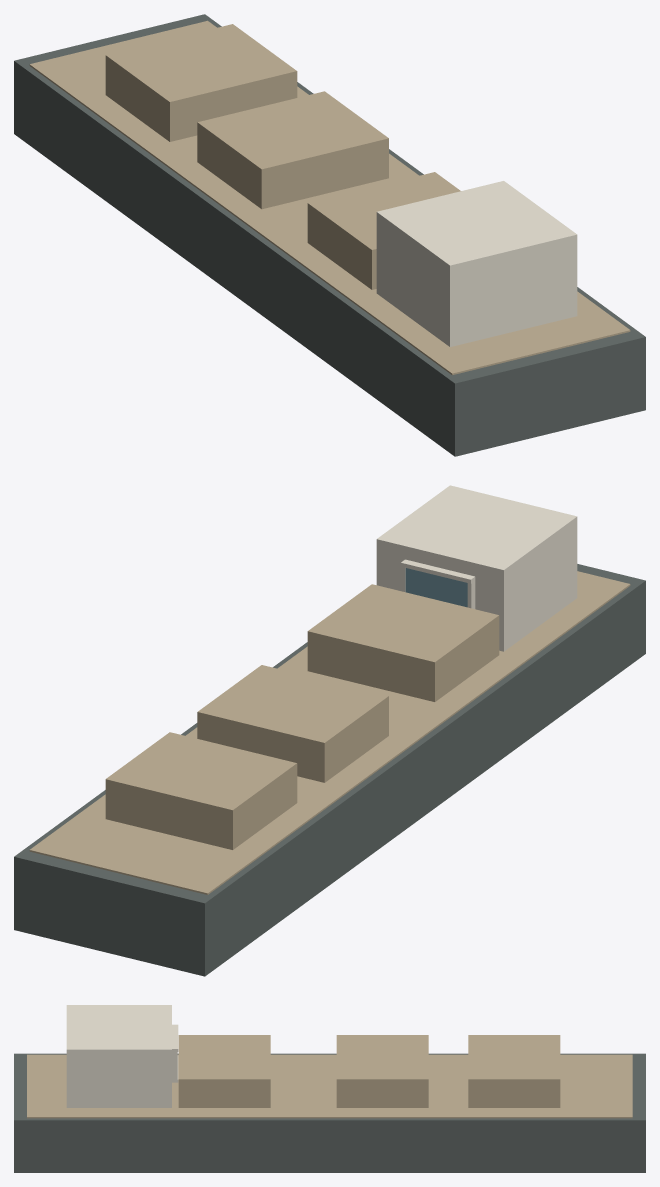
The model's file is rhine-barge_lod1.glb.
3 renders of one model, top to bottom at view 1: azimuth 30°, elevation 25°; view 2: azimuth 150°, elevation 25°; view 3: azimuth 270°, elevation 25°, orthographic. The views are drawn at different scales.
Visible parts, largest first — view 1: RF_Hull, RF_BargeCabin, RF_Deck, RF_CargoCrate.002, RF_CargoCrate, RF_CargoCrate.001; view 2: RF_Hull, RF_Deck, RF_BargeCabin, RF_CargoCrate.001, RF_CargoCrate, RF_CargoCrate.002, RF_Window; view 3: RF_Hull, RF_Deck, RF_BargeCabin, RF_CargoCrate.001, RF_CargoCrate.002, RF_CargoCrate.
Boxes of the visible parts, bbox=[...] form: RF_Hull: bbox=[14, 14, 645, 456]; RF_BargeCabin: bbox=[376, 181, 577, 346]; RF_Deck: bbox=[29, 20, 630, 375]; RF_CargoCrate.002: bbox=[197, 91, 388, 209]; RF_CargoCrate: bbox=[105, 24, 297, 141]; RF_CargoCrate.001: bbox=[307, 172, 460, 289]; RF_Hull: bbox=[14, 564, 645, 976]; RF_Deck: bbox=[29, 571, 630, 894]; RF_BargeCabin: bbox=[376, 485, 577, 651]; RF_CargoCrate.001: bbox=[307, 584, 499, 701]; RF_CargoCrate: bbox=[105, 732, 297, 849]; RF_CargoCrate.002: bbox=[197, 665, 388, 782]; RF_Window: bbox=[405, 568, 467, 607]; RF_Hull: bbox=[14, 1053, 645, 1172]; RF_Deck: bbox=[27, 1054, 632, 1118]; RF_BargeCabin: bbox=[66, 1005, 171, 1107]; RF_CargoCrate.001: bbox=[178, 1035, 270, 1107]; RF_CargoCrate.002: bbox=[336, 1035, 428, 1107]; RF_CargoCrate: bbox=[468, 1035, 560, 1107].
Bounding box in the file's own units: 6 × 4.7 × 24.
